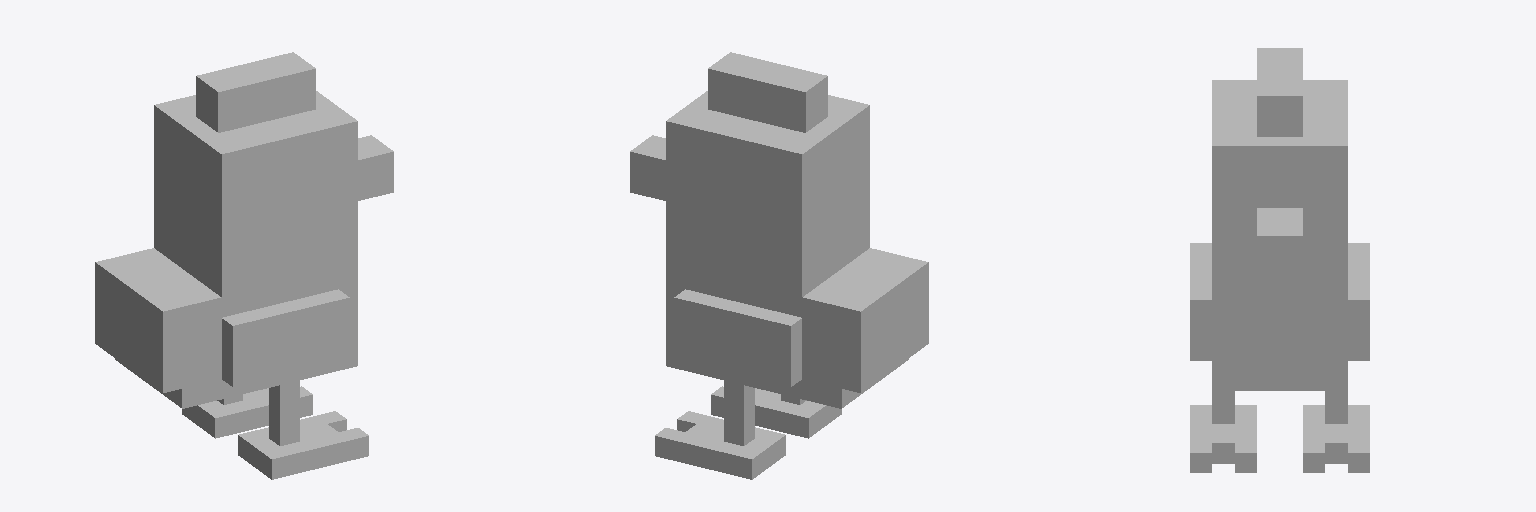
Rendered from chicken.obj.
3 renders of one model, left to right at view 1: azimuth 30°, elevation 25°; view 2: azimuth 150°, elevation 25°; view 3: azimuth 270°, elevation 25°, orthographic.
Parts seen in each view (by area): view 1: object 1; view 2: object 1; view 3: object 1.
Part boxes in pixels (left/top/right/bottom): object 1: left=95, top=52, right=393, bottom=479; object 1: left=630, top=52, right=928, bottom=479; object 1: left=1190, top=48, right=1369, bottom=472.
Bounding box in the file's own units: 1.3 × 1.8 × 0.8.